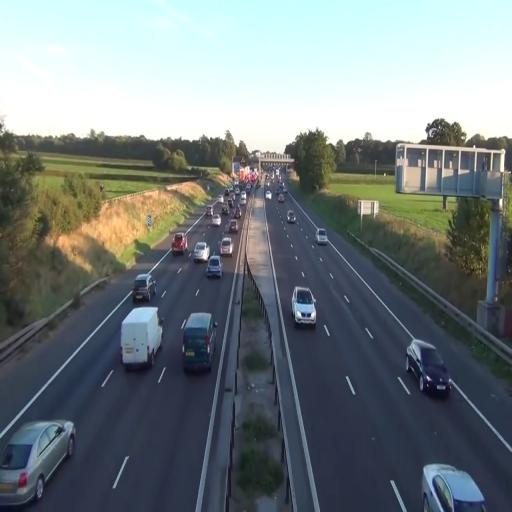vehicle: (0, 419, 76, 506), (422, 461, 487, 512), (120, 306, 164, 370), (120, 307, 163, 370), (406, 340, 451, 399), (182, 312, 215, 374), (291, 287, 317, 327), (132, 273, 154, 304), (193, 241, 210, 264), (206, 256, 222, 278), (218, 237, 234, 257), (316, 228, 328, 244)
